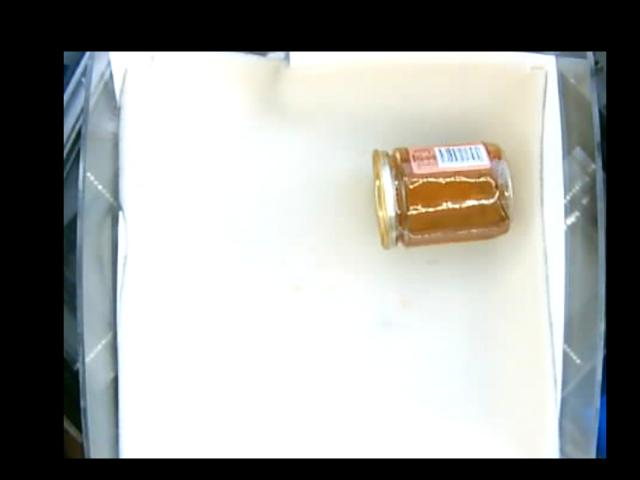Bottle: (372, 141, 513, 249)
